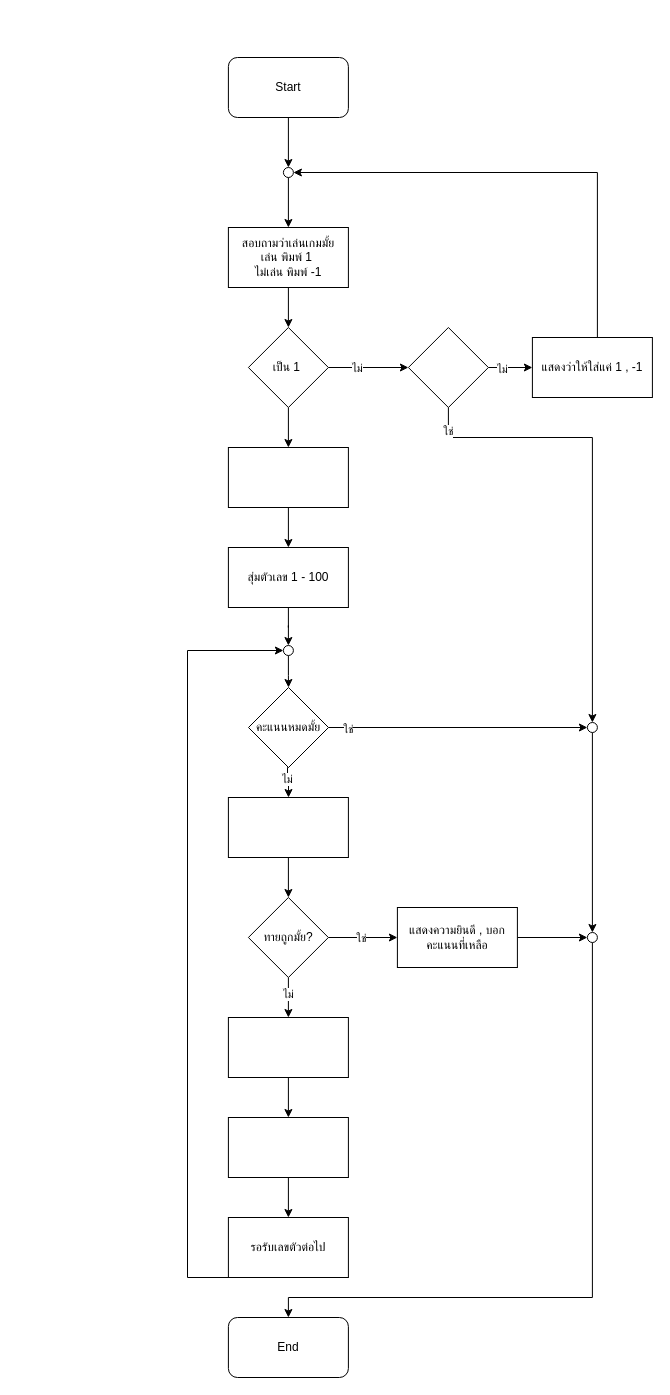
The diagram is 670 pixels wide and 1395 high, and some of its shapes have lost their labels. The centre of each missing label's shape, as x and y in pixels:
ตั้งคะแนนผู้เล่น 100: the point at 287,477
บอกว่ามากหรือน้อยกว่าเลขที่ ทายมา: the point at 287,1147
รับค่าตัวเลขจากผู้เล่น: the point at 287,827
หักคะแนน 10 คะแนน: the point at 287,1047
เป็น -1: the point at 447,367
